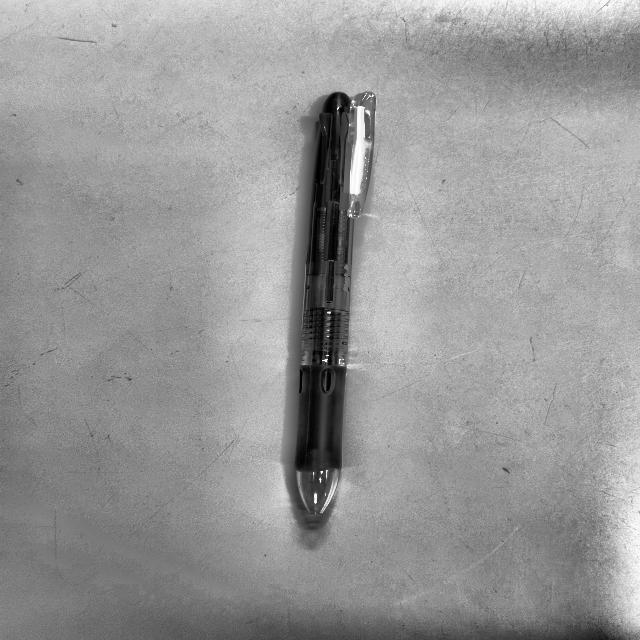Pen: (294, 91, 375, 515)
